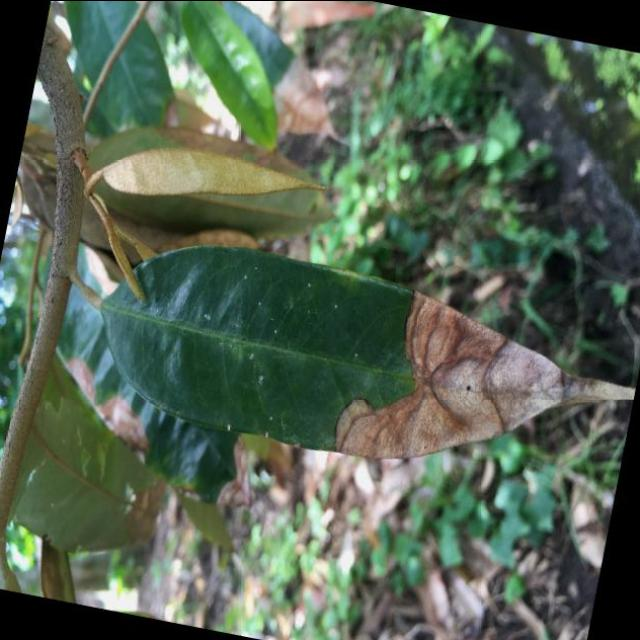Leaf Blight: (71, 212, 640, 514)
